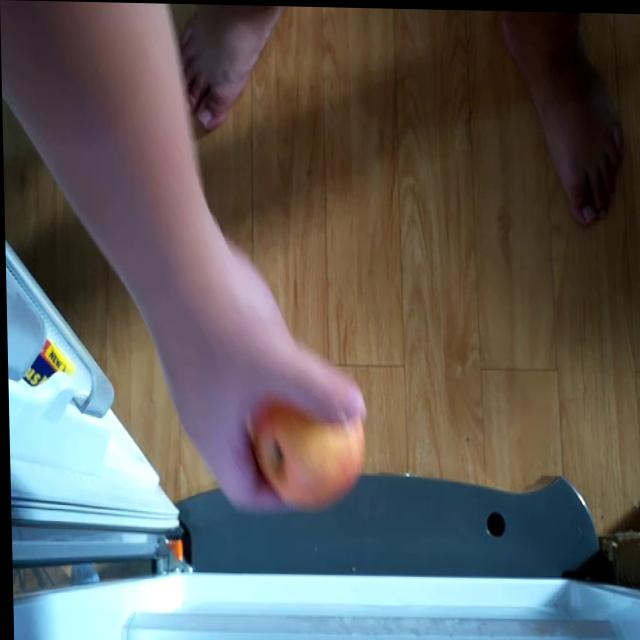apple: (247, 400, 361, 508)
